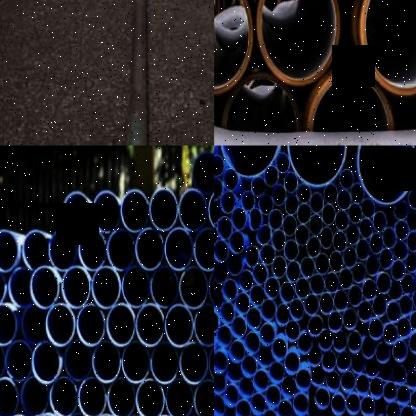pipe: (257, 0, 340, 86), (358, 0, 416, 96), (308, 70, 394, 132), (223, 73, 302, 131), (214, 0, 253, 94), (357, 145, 415, 206), (287, 146, 346, 188), (219, 146, 281, 178), (135, 226, 164, 272), (106, 302, 135, 348), (62, 191, 92, 235), (164, 227, 194, 271), (61, 266, 91, 310), (150, 341, 180, 384), (149, 188, 178, 232), (46, 304, 75, 348), (135, 304, 164, 348), (165, 304, 194, 348), (121, 340, 150, 384), (179, 341, 208, 385), (179, 188, 207, 233), (92, 190, 121, 233), (30, 266, 59, 309), (92, 267, 121, 310), (92, 340, 121, 383), (31, 341, 60, 384), (49, 228, 77, 272), (180, 266, 208, 310), (150, 266, 179, 308), (76, 304, 105, 346), (121, 189, 148, 233), (78, 229, 106, 271), (122, 266, 150, 308), (108, 229, 135, 272), (64, 340, 92, 381), (135, 378, 165, 416), (165, 377, 194, 416), (49, 376, 77, 416), (78, 376, 106, 416), (21, 304, 48, 345), (6, 340, 32, 382), (107, 377, 135, 416), (21, 376, 48, 416), (23, 230, 49, 270), (8, 266, 32, 309), (194, 226, 214, 272), (193, 151, 214, 194), (194, 304, 214, 346), (0, 229, 19, 271), (194, 379, 214, 416), (0, 377, 18, 416), (0, 302, 16, 345), (219, 191, 236, 214), (392, 340, 409, 363), (283, 352, 300, 375), (345, 392, 361, 416), (253, 263, 270, 285), (228, 341, 245, 363), (295, 369, 312, 391), (228, 231, 244, 254), (271, 256, 287, 279), (238, 269, 254, 292), (289, 298, 305, 321), (246, 307, 262, 330), (216, 325, 232, 348), (268, 362, 284, 385), (253, 370, 269, 393), (292, 393, 308, 416), (231, 207, 246, 231), (217, 216, 232, 240), (275, 303, 290, 327), (361, 336, 376, 360), (281, 376, 296, 400), (250, 392, 265, 416), (259, 244, 276, 265), (264, 277, 280, 299), (386, 301, 402, 323), (271, 339, 287, 361), (321, 350, 337, 372), (336, 351, 352, 373), (241, 356, 257, 378), (314, 388, 330, 410), (286, 260, 301, 283), (280, 281, 295, 304), (372, 295, 387, 318), (220, 302, 235, 325), (343, 308, 358, 331), (231, 316, 246, 339), (285, 320, 300, 343), (260, 323, 275, 346), (333, 330, 348, 353), (307, 345, 322, 368), (351, 352, 366, 375), (341, 371, 356, 394), (355, 373, 370, 396), (224, 385, 239, 408), (265, 386, 280, 409), (226, 363, 243, 383), (250, 176, 266, 197), (238, 378, 254, 399), (264, 165, 279, 187), (350, 182, 365, 204), (372, 211, 387, 233), (295, 224, 310, 246), (271, 230, 286, 252), (284, 239, 299, 261), (214, 240, 229, 262), (214, 262, 229, 284), (324, 272, 339, 294), (333, 289, 348, 311), (319, 293, 334, 315), (235, 293, 250, 315), (304, 294, 319, 316), (399, 295, 414, 317), (261, 299, 276, 321), (358, 301, 373, 323), (308, 315, 323, 337), (244, 333, 259, 355), (298, 333, 313, 355), (258, 346, 273, 368), (365, 357, 380, 379), (272, 183, 286, 206), (310, 191, 324, 214), (309, 213, 323, 236), (245, 245, 259, 268), (348, 285, 362, 308), (319, 329, 333, 352), (376, 342, 390, 365), (214, 351, 228, 374), (331, 393, 345, 416), (258, 195, 274, 215), (256, 225, 272, 245), (227, 255, 243, 275), (360, 396, 376, 416), (223, 169, 238, 190), (323, 183, 338, 204), (337, 189, 352, 210), (284, 194, 299, 215), (321, 204, 336, 225), (268, 209, 283, 230), (334, 210, 349, 231), (282, 215, 297, 236), (359, 218, 374, 239), (394, 220, 409, 241), (329, 251, 344, 272), (391, 260, 406, 281), (339, 268, 354, 289), (295, 278, 310, 299), (222, 280, 237, 301), (383, 324, 398, 345), (320, 226, 333, 250), (383, 226, 397, 248), (343, 246, 357, 268), (315, 253, 329, 275), (366, 255, 380, 277), (301, 257, 315, 279), (352, 262, 366, 284), (377, 273, 391, 295), (310, 274, 324, 296), (362, 279, 376, 301), (369, 319, 383, 341), (361, 198, 376, 218), (306, 237, 321, 257), (388, 281, 403, 301), (250, 285, 265, 305), (348, 331, 361, 354), (340, 168, 354, 189), (284, 172, 298, 193), (241, 190, 255, 211), (297, 203, 311, 224), (346, 224, 360, 245), (333, 231, 347, 252), (401, 274, 415, 295), (328, 311, 342, 332), (397, 318, 411, 339), (379, 361, 393, 382), (311, 366, 325, 387), (326, 371, 340, 392), (370, 233, 383, 255), (356, 239, 369, 261), (214, 372, 227, 394), (370, 378, 383, 400), (393, 241, 408, 260), (297, 183, 311, 203), (348, 203, 362, 223), (393, 365, 407, 385), (249, 208, 261, 231), (384, 382, 397, 403), (234, 400, 251, 416), (394, 201, 409, 219), (397, 386, 411, 405), (208, 188, 214, 232), (380, 249, 393, 269), (277, 399, 292, 416), (208, 266, 214, 308), (0, 266, 6, 308), (306, 397, 319, 416), (214, 395, 225, 416), (214, 288, 224, 309), (0, 341, 5, 382), (406, 232, 416, 252), (406, 252, 416, 272), (407, 210, 416, 232), (402, 355, 416, 369), (386, 402, 400, 416), (214, 177, 222, 201), (407, 370, 416, 390), (214, 201, 221, 223), (409, 332, 416, 353), (401, 406, 415, 416), (410, 310, 416, 330), (410, 390, 416, 410), (214, 311, 219, 333), (261, 410, 278, 416), (214, 224, 218, 247), (412, 289, 416, 310), (347, 414, 363, 416), (375, 414, 389, 416), (247, 415, 262, 416)
